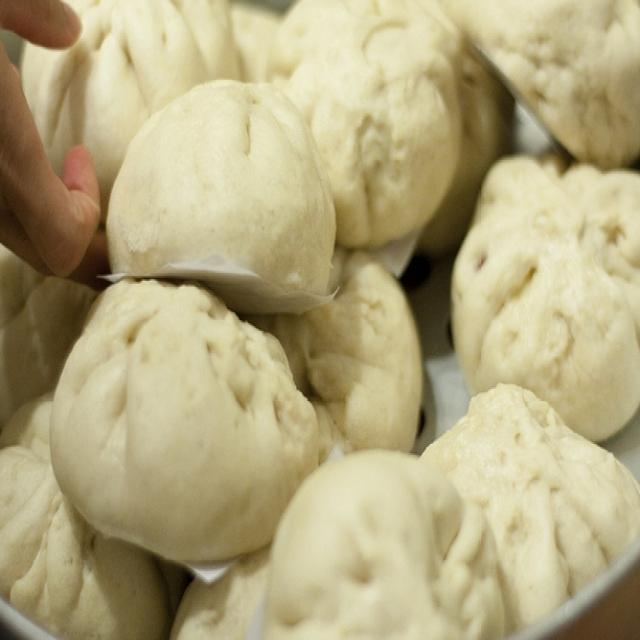带馅早点: (40, 31, 603, 626)
